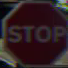Stop: (4, 3, 64, 57)
